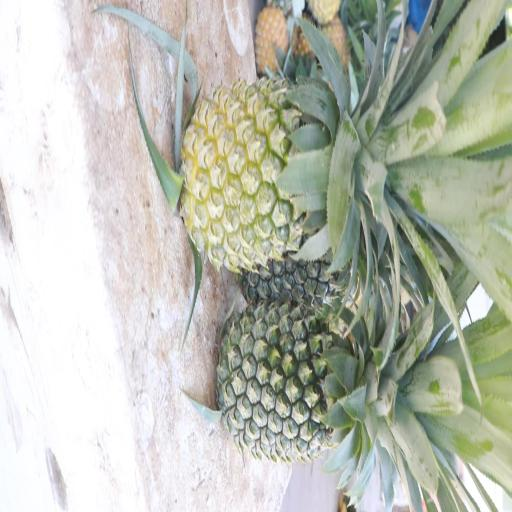Pineapple - v8 v1: (183, 85, 363, 270)
